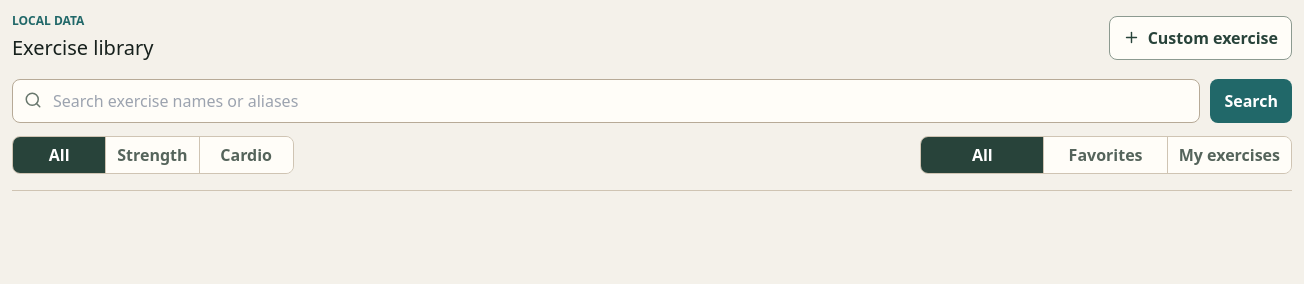
Test case: ExerciseCatalogPane › renders the Mainland exercise and muscle names returned by the service
Type "Barbell Full Squat" into the field named "Search exercises" at (606, 101), box [12, 79, 1200, 123]
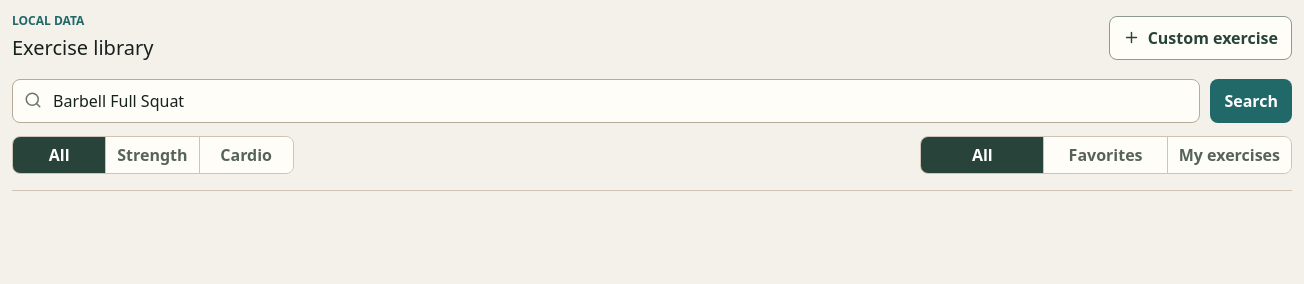
Click the button "Search" at (1251, 101), box [1210, 79, 1292, 123]
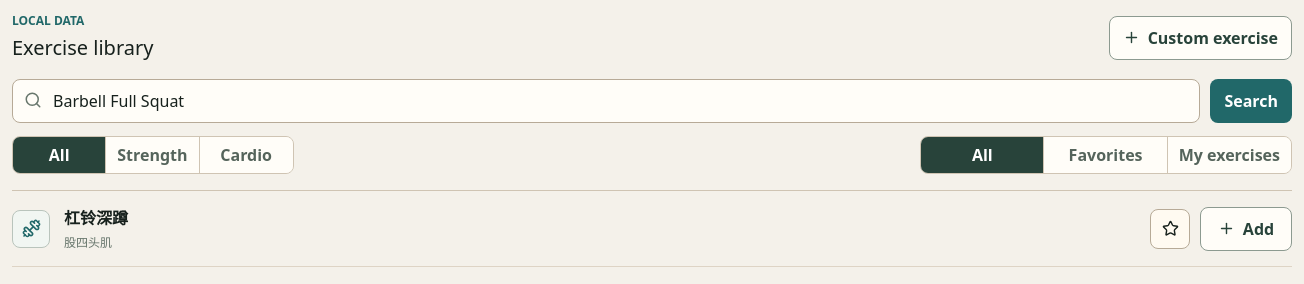
Check: the text "杠铃深蹲" is shown, box [64, 206, 128, 228]
Check: the text "股四头肌" is shown, box [64, 234, 112, 250]
